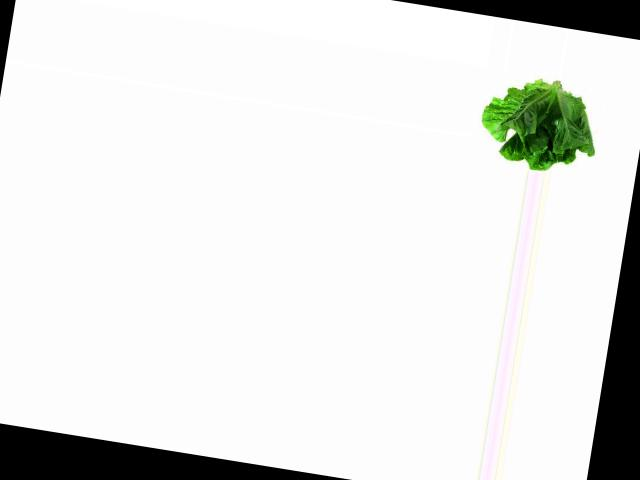lettuce: (476, 74, 606, 178)
